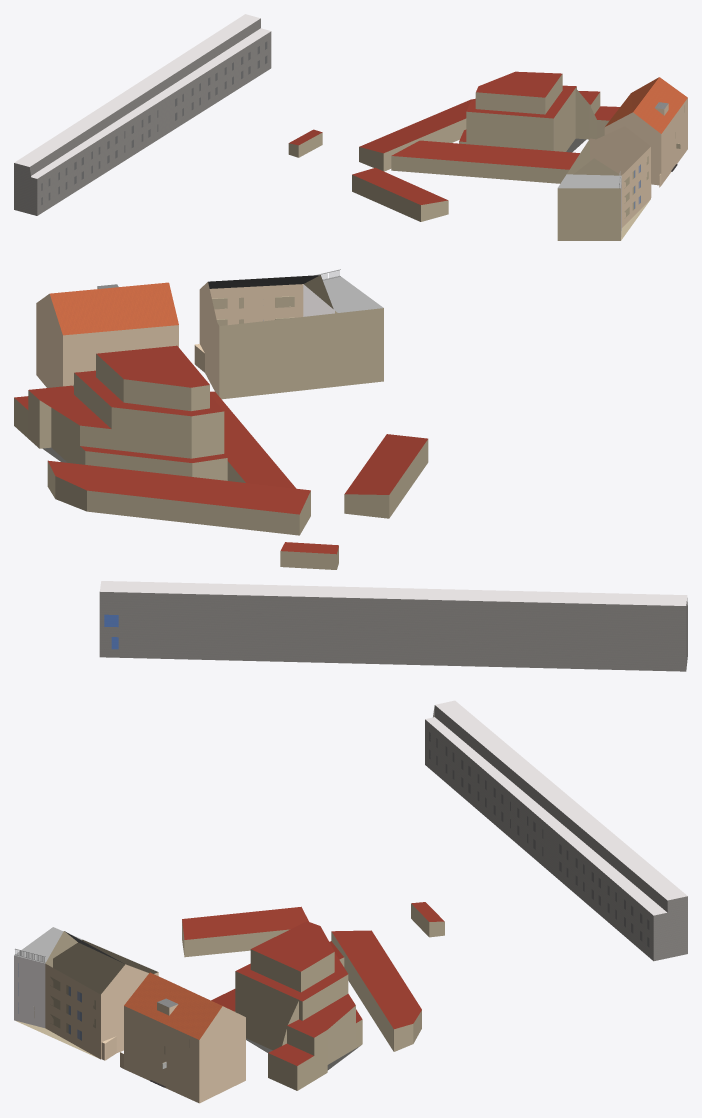
File: ingolstadt_10_lod3_buildings_enriched.obj
3 views of the same model, one above another, from view 1: azimuth 30°, elevation 25°; view 2: azimuth 150°, elevation 25°; view 3: azimuth 270°, elevation 25° (orthographic). The views are drawn at different scales.
Parts seen in each view (by area): view 1: bldg_4018270, bldg_DEBY_L2_107777145, bldg_4018212, bldg_DEBY_L2_4392842, bldg_4018211, bldg_DEBY_L2_104848284, bldg_DEBY_L2_4392840, bldg_DEBY_L2_4392883; view 2: bldg_4018270, bldg_DEBY_L2_107777145, bldg_4018212, bldg_DEBY_L2_104848284, bldg_4018211, bldg_DEBY_L2_4392840, bldg_DEBY_L2_4392842, bldg_DEBY_L2_4392883; view 3: bldg_4018270, bldg_DEBY_L2_107777145, bldg_4018212, bldg_4018211, bldg_DEBY_L2_104848284, bldg_DEBY_L2_4392840, bldg_DEBY_L2_4392883.
Part boxes in pixels (x1,y1,x2,y2): bldg_4018270: [14, 14, 271, 215]; bldg_DEBY_L2_107777145: [459, 71, 619, 152]; bldg_4018212: [557, 126, 651, 240]; bldg_DEBY_L2_4392842: [391, 140, 579, 183]; bldg_4018211: [604, 77, 687, 187]; bldg_DEBY_L2_104848284: [359, 98, 475, 171]; bldg_DEBY_L2_4392840: [352, 167, 448, 221]; bldg_DEBY_L2_4392883: [288, 129, 322, 157]; bldg_4018270: [99, 581, 687, 671]; bldg_DEBY_L2_107777145: [14, 345, 227, 480]; bldg_4018212: [194, 269, 383, 399]; bldg_DEBY_L2_104848284: [47, 460, 310, 535]; bldg_4018211: [36, 282, 178, 387]; bldg_DEBY_L2_4392840: [344, 434, 428, 518]; bldg_DEBY_L2_4392842: [210, 391, 295, 488]; bldg_DEBY_L2_4392883: [280, 542, 338, 569]; bldg_4018270: [425, 700, 687, 961]; bldg_DEBY_L2_107777145: [235, 921, 362, 1090]; bldg_4018212: [14, 927, 158, 1060]; bldg_4018211: [120, 972, 245, 1103]; bldg_DEBY_L2_104848284: [331, 930, 421, 1051]; bldg_DEBY_L2_4392840: [182, 906, 308, 957]; bldg_DEBY_L2_4392883: [411, 902, 444, 937].
Bounding box in the file's own units: 110 × 13.23 × 91.48.
